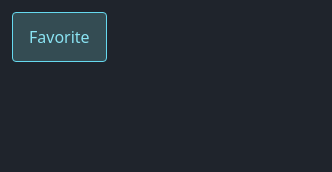
Test case: avatars and toggle controls › toggles uncontrolled and controlled buttons while respecting prevented clicks
Later steps or results of the test are not shown.
Step 1. Click the button "Favorite" → (59, 37), box [12,12,107,62]
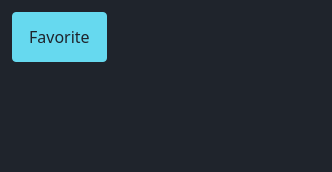
Result: the button "Favorite" is not pressed at [12,12,107,62]
